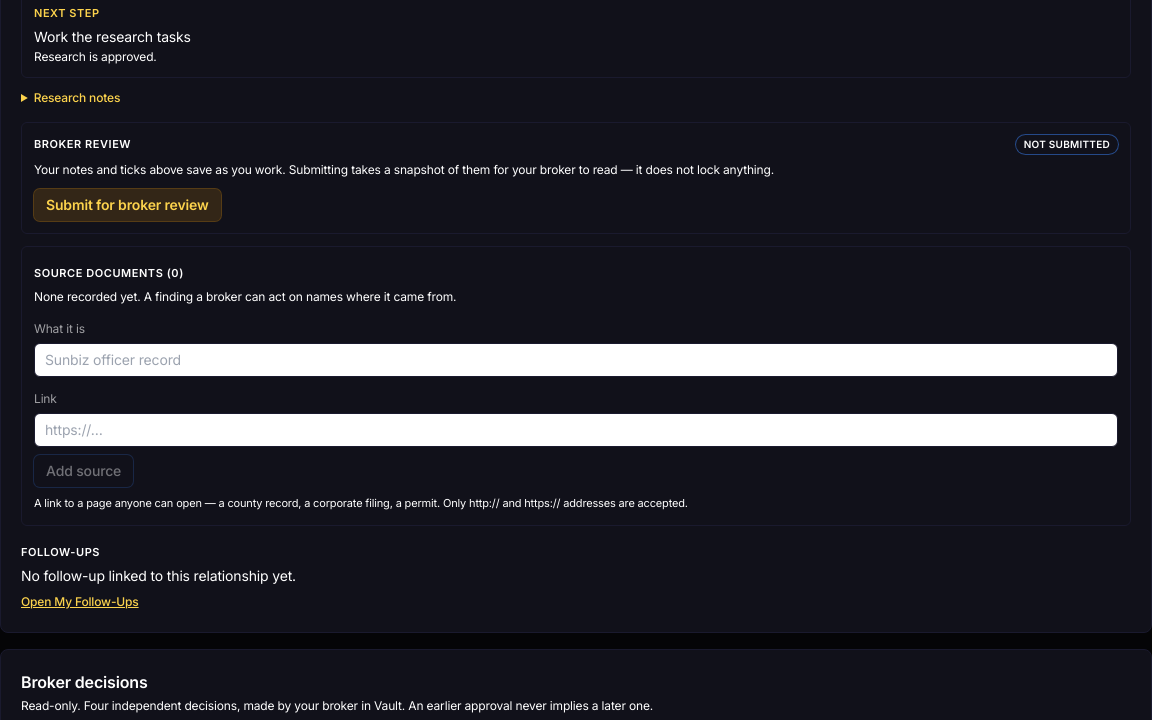
Test case: [P12A-AP-4] source documents › clears the boxes and re-reads the list on success
(page scrolled)
Expected: the element with test id "submission" is shown, [21,122,1131,234]
Type "Sunbiz" into the field with test id "source-label". click: (576, 360)
box: [34,343,1118,377]
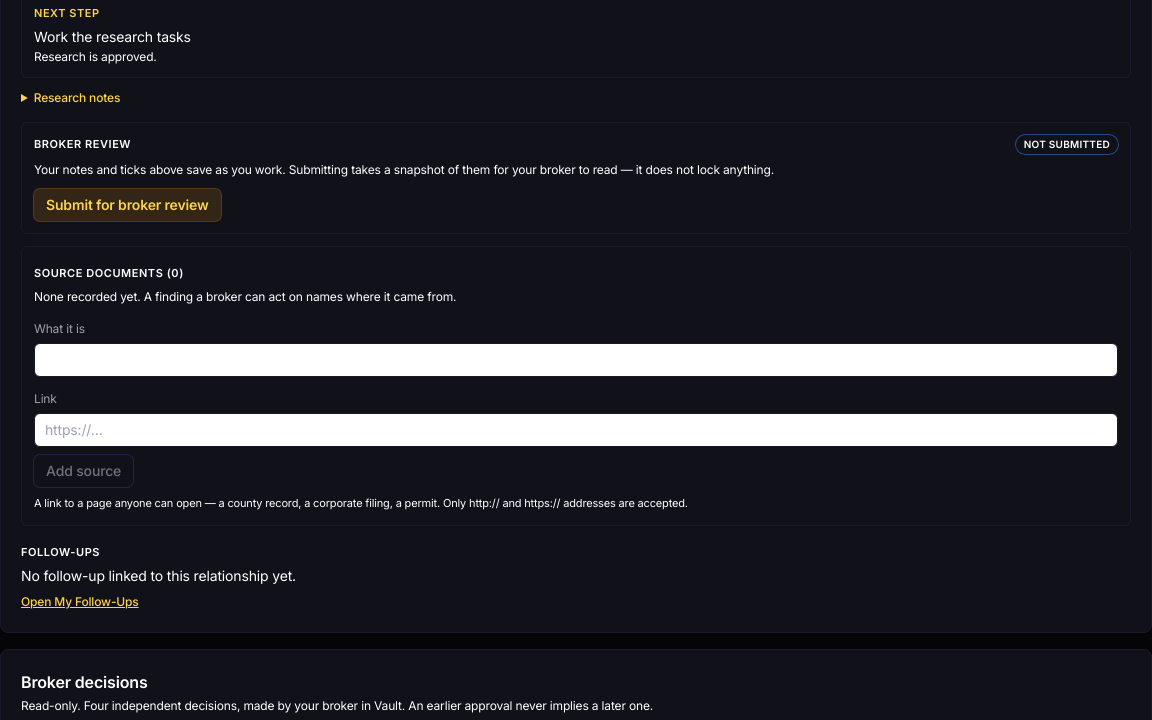
Type "https://sunbiz.org/x" into the field with test id "source-url". click: (576, 430)
box: [34,413,1118,447]
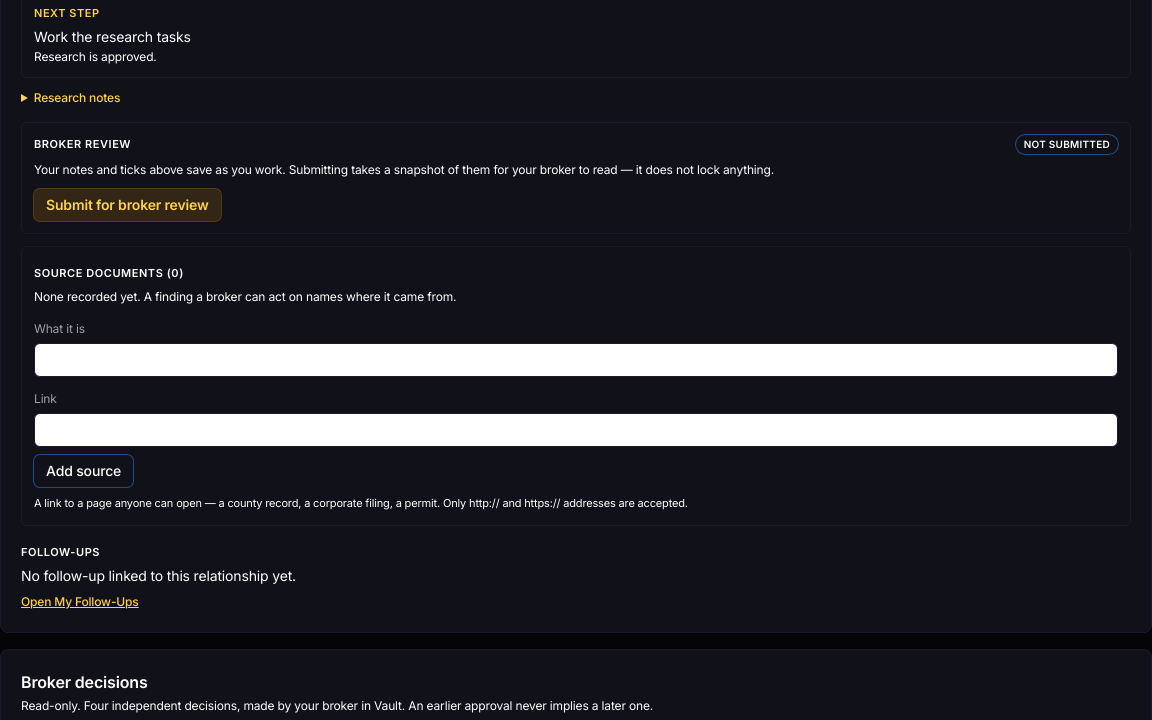
Click the button with test id "add-source-button". click: click(84, 471)
box: [34,455,133,487]
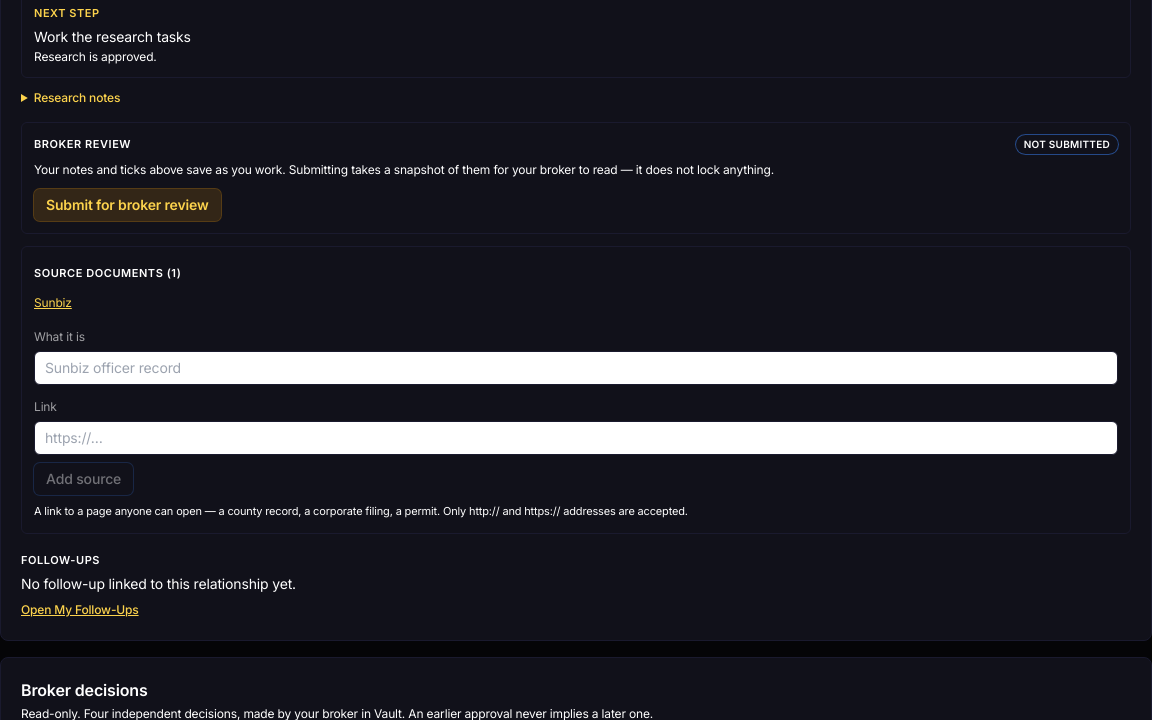
Expected: the field with test id "source-url" is empty, [34,421,1118,455]
Expected: the field with test id "source-label" is empty, [34,351,1118,385]
Expected: the link with test id "source-link" reads "Sunbiz", [34,295,72,310]
